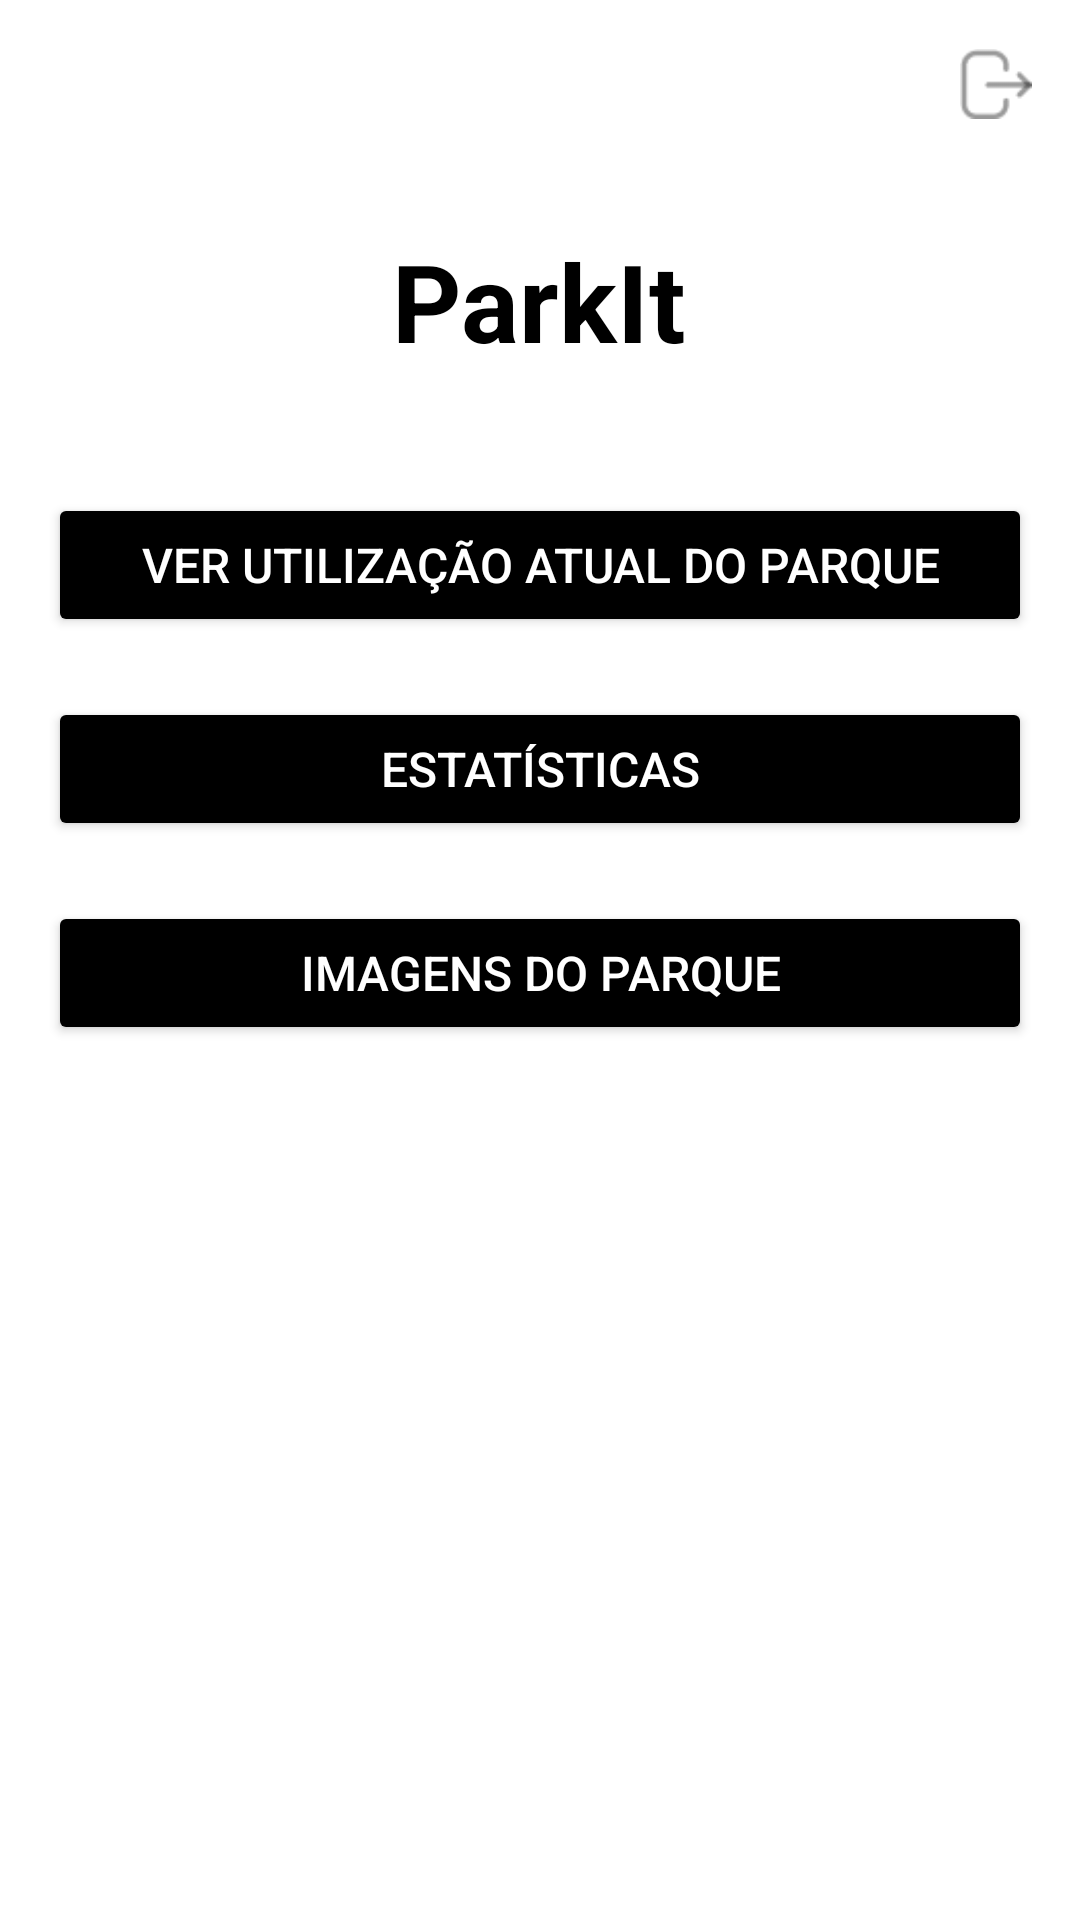

Icon click points for this 1080w x 1920h phone screenshot, format point (x, y):
Sair do aplicativo: point (996, 84)
